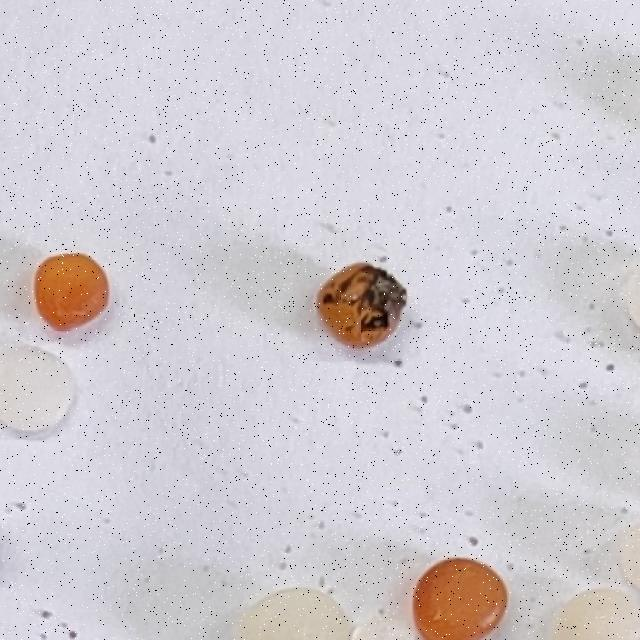beads: (305, 247, 421, 364), (414, 560, 509, 640), (32, 250, 112, 334), (0, 348, 75, 433), (235, 590, 350, 640)
